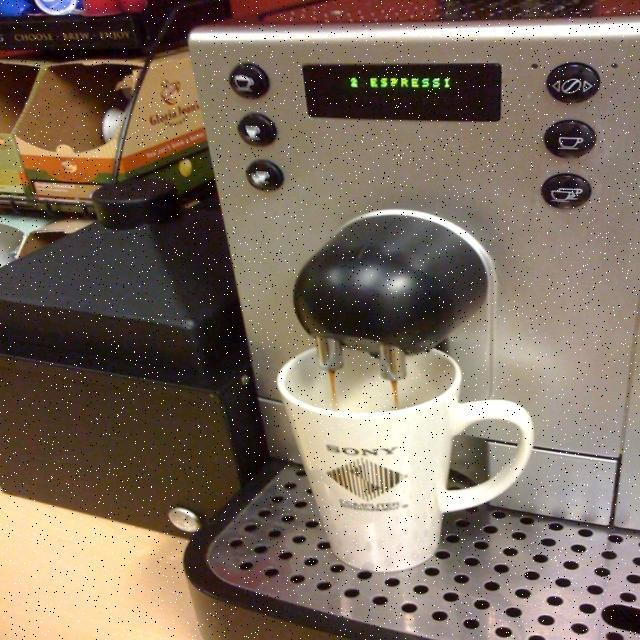Coffee-Machine: (175, 0, 640, 636)
